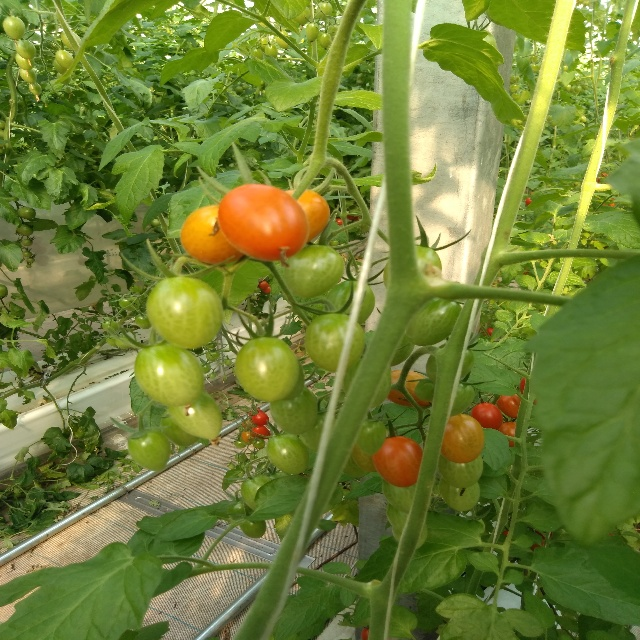l_fully_ripened: (371, 437, 423, 488), (470, 402, 503, 430), (495, 394, 521, 418), (251, 411, 269, 426), (251, 426, 269, 438)
l_green: (148, 277, 224, 350), (133, 343, 204, 407), (235, 337, 299, 404), (305, 312, 365, 373), (284, 243, 346, 298), (165, 390, 221, 440), (404, 298, 462, 346), (267, 387, 318, 436), (322, 280, 376, 325), (427, 343, 474, 385), (127, 430, 170, 472), (267, 434, 308, 475), (438, 453, 484, 489), (437, 475, 480, 512), (161, 408, 200, 447), (433, 379, 473, 417), (390, 514, 428, 550), (382, 477, 415, 514), (240, 474, 271, 511), (356, 419, 386, 455), (389, 333, 416, 367), (386, 502, 409, 534), (239, 514, 266, 539), (343, 454, 368, 478), (229, 498, 254, 521), (3, 16, 26, 40), (415, 377, 435, 401), (15, 39, 36, 59), (55, 49, 74, 69), (16, 53, 35, 71), (119, 295, 140, 311), (19, 66, 36, 83), (135, 313, 153, 329), (53, 58, 68, 75), (17, 207, 36, 220), (56, 71, 71, 85), (16, 224, 33, 236), (29, 83, 42, 96), (251, 438, 265, 449), (234, 437, 246, 449), (239, 435, 252, 446), (234, 453, 247, 462), (21, 239, 33, 247), (250, 451, 258, 460)
l_half_ripened: (218, 183, 310, 261), (181, 204, 246, 264), (284, 188, 331, 243), (441, 413, 483, 463), (385, 369, 433, 407), (351, 442, 378, 472), (497, 422, 516, 447), (241, 428, 255, 443)
